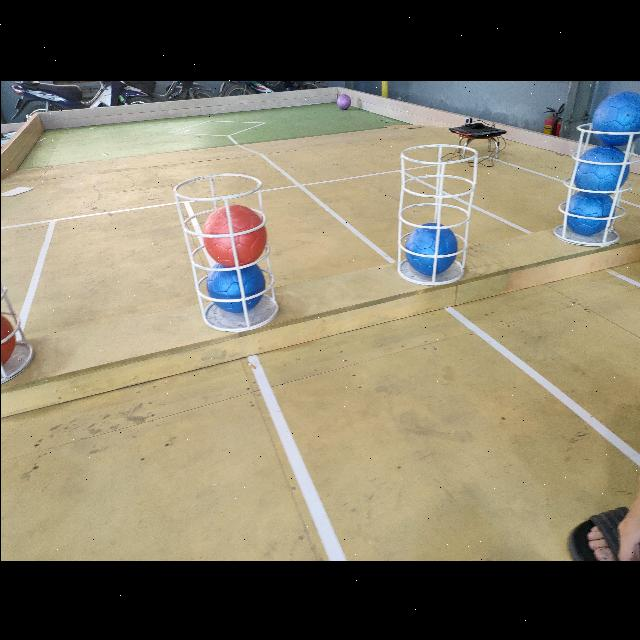B: (204, 261, 266, 311), (592, 86, 640, 146), (406, 220, 452, 274), (573, 144, 623, 193), (566, 190, 616, 236)
R: (202, 203, 266, 264), (1, 316, 22, 366)
